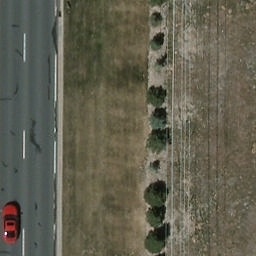car: (1, 200, 25, 247)
